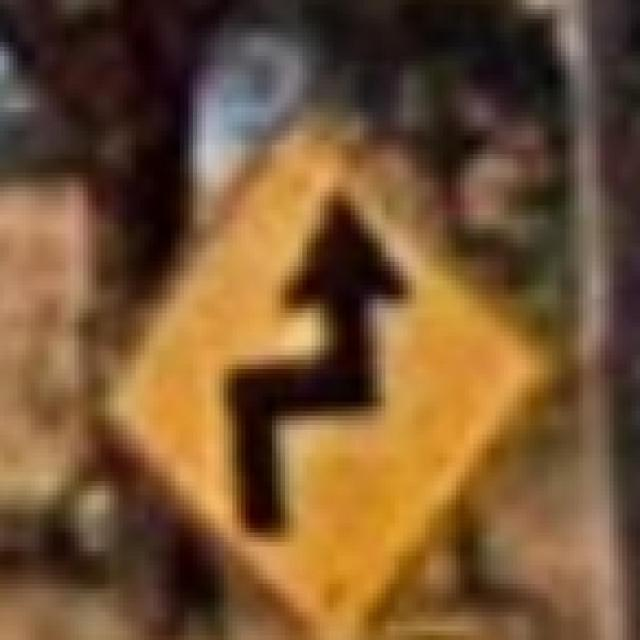Tikungan Ganda Pertama Ke Kanan: (101, 98, 548, 635)
